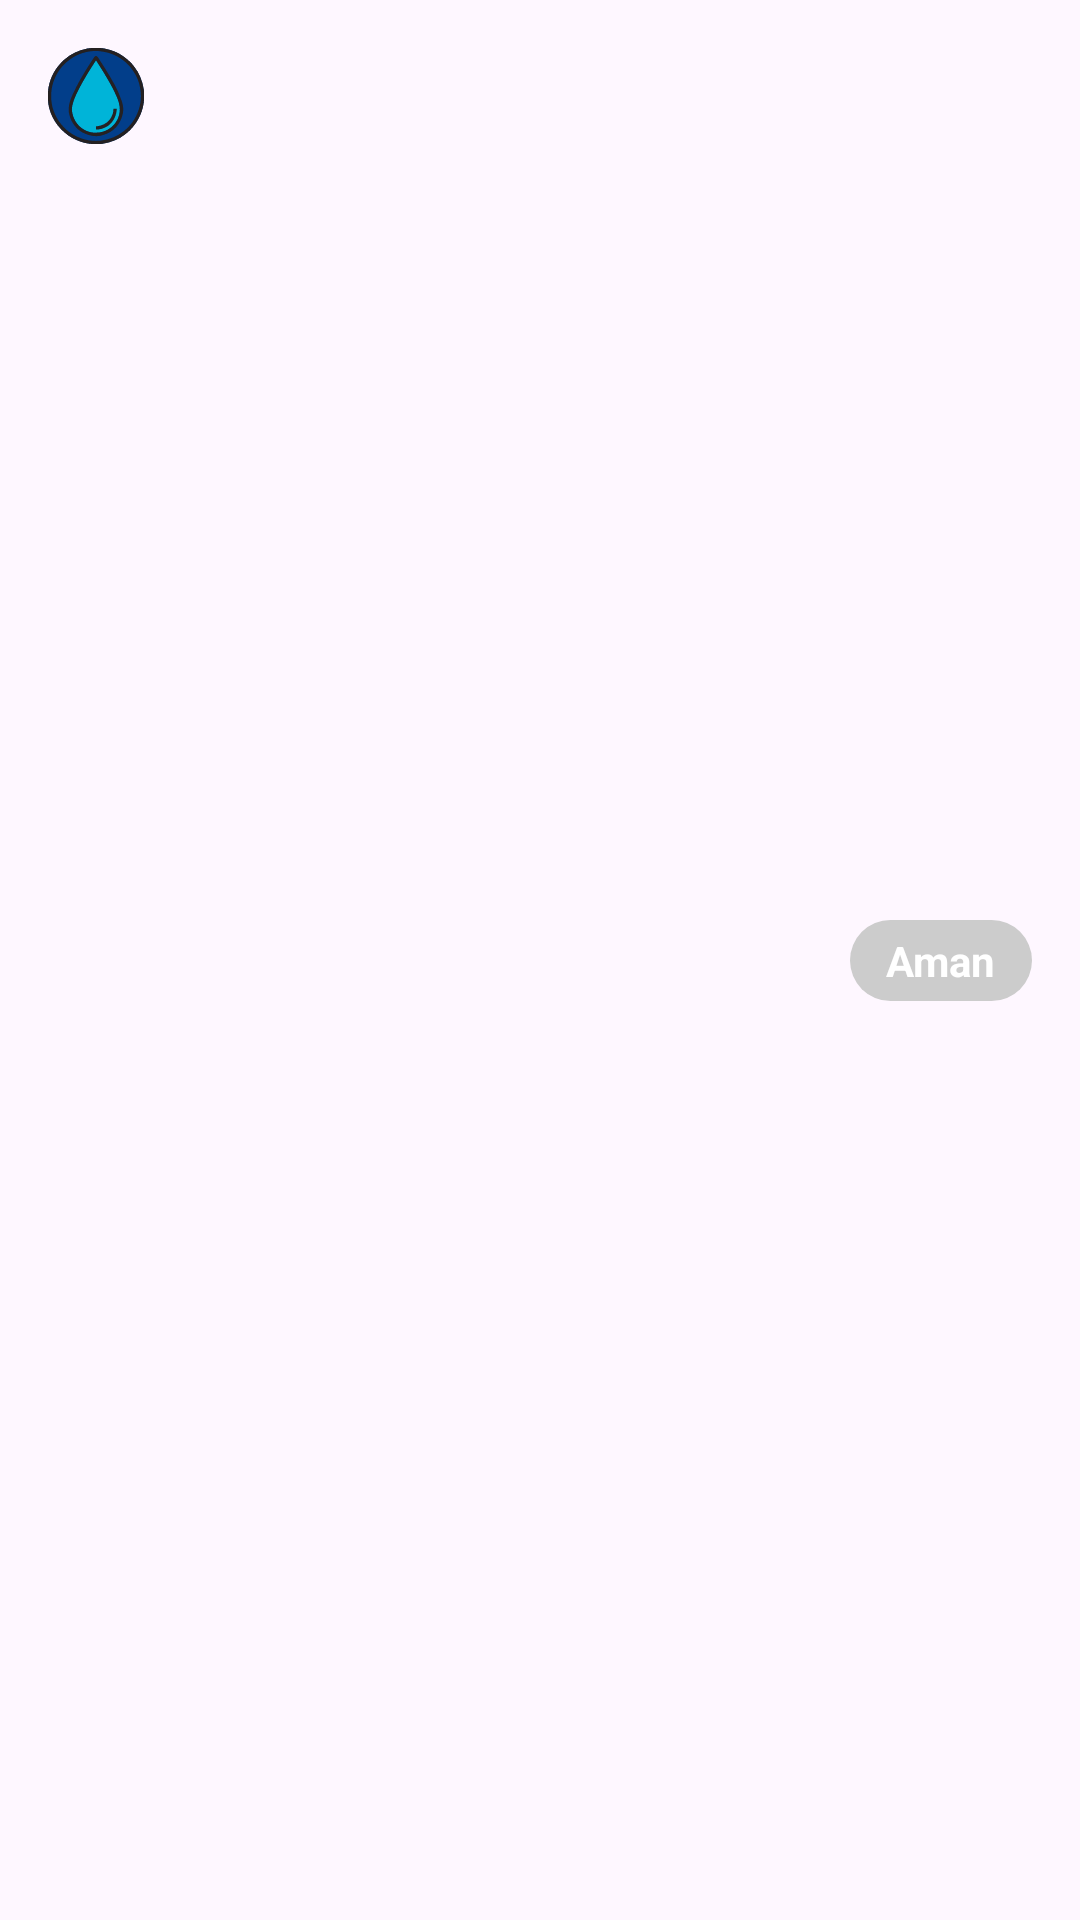

Icons on this 1080×1920 Android screen, each with the point to tap as [x,y]:
drop: [96,96]
